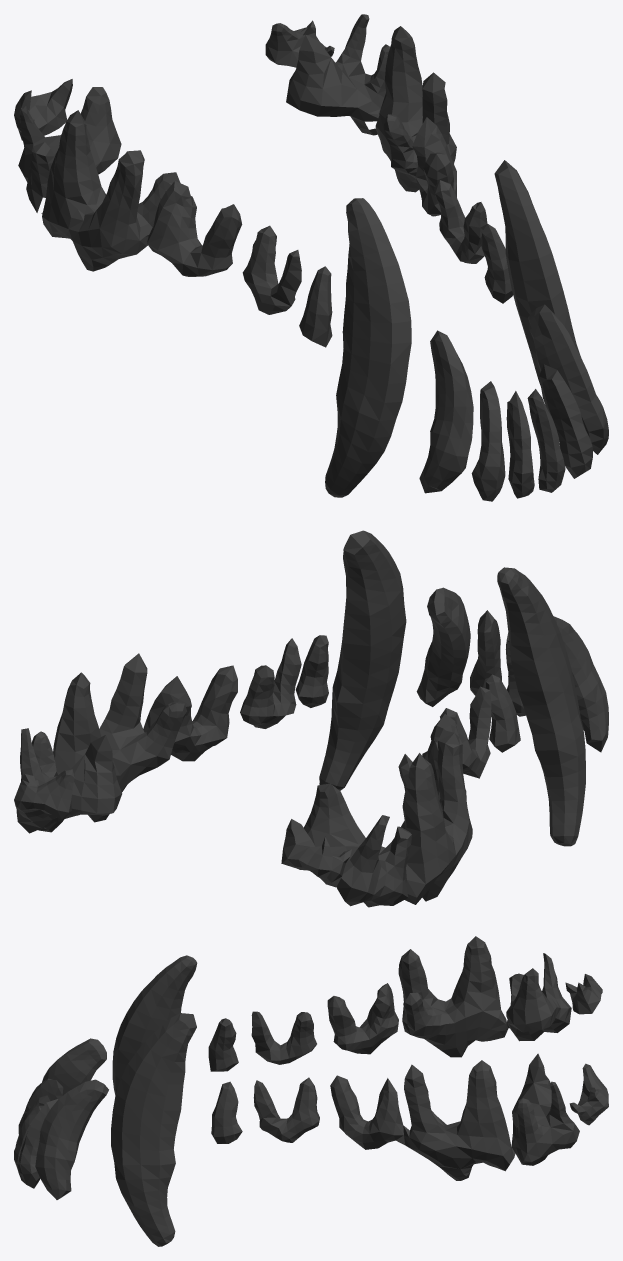
Rendered from Maxillary_teeth.glb.
3 renders of one model, top to bottom at view 1: azimuth 30°, elevation 25°; view 2: azimuth 150°, elevation 25°; view 3: azimuth 270°, elevation 25°, orthographic. The views are drawn at different scales.
Visible parts, largest first — view 1: Maxillary_teeth; view 2: Maxillary_teeth; view 3: Maxillary_teeth.
Part boxes in pixels (x1=…): Maxillary_teeth: x1=14, y1=14, x2=608, y2=501; Maxillary_teeth: x1=14, y1=530, x2=608, y2=907; Maxillary_teeth: x1=14, y1=936, x2=608, y2=1246.
Bounding box in the file's own units: 3.5 × 2.45 × 6.07.
Materials: 1 (1 with a texture image).
